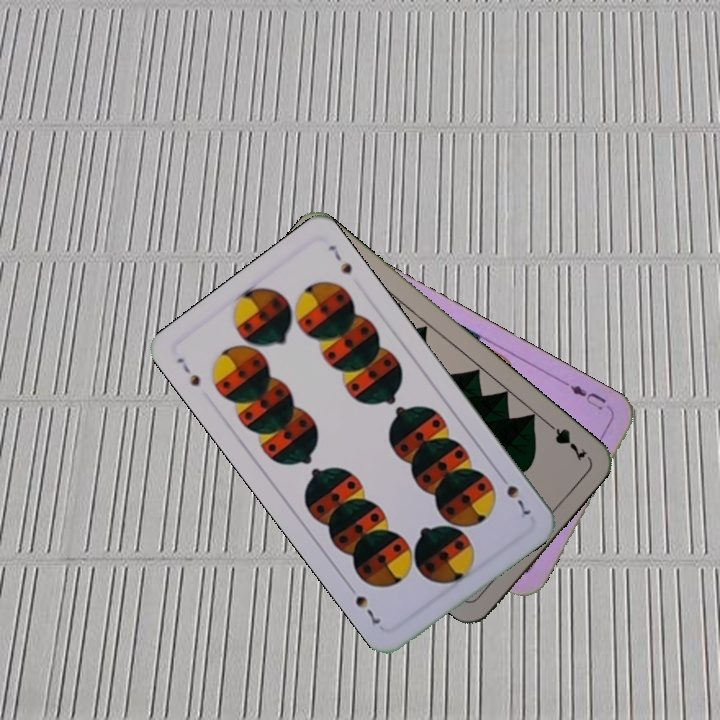EU: (559, 379, 609, 413)
G7: (541, 416, 590, 464)
S7: (494, 469, 534, 518), (172, 353, 203, 389)
